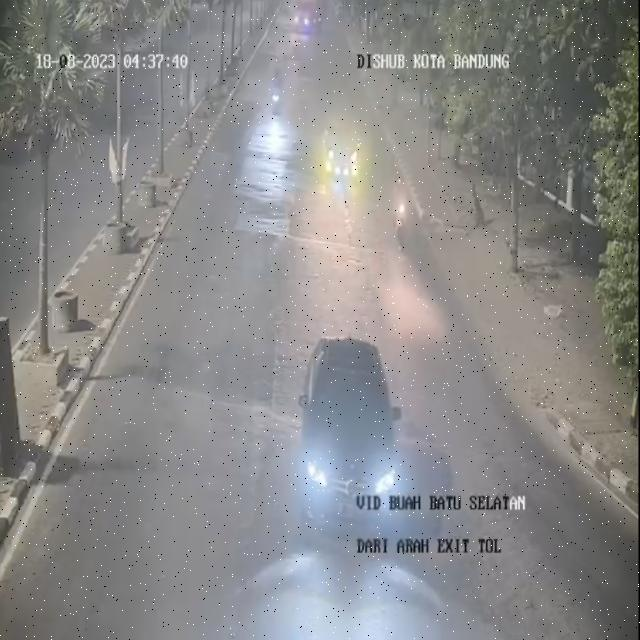cars: (301, 324, 413, 546), (318, 100, 374, 193)
motorcycle: (390, 165, 418, 261), (268, 62, 287, 116)
truck: (291, 0, 319, 43)
